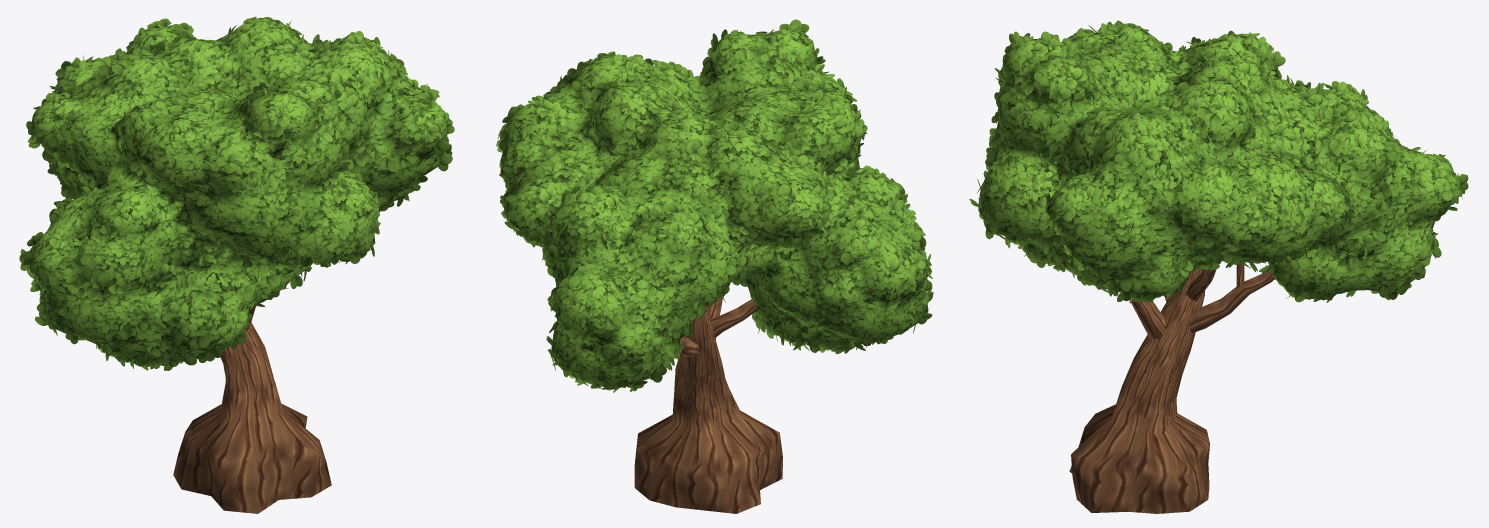
The model's file is oak_v2.glb.
The picture shows the model from 3 angles, left to right: view 1: azimuth 30°, elevation 25°; view 2: azimuth 150°, elevation 25°; view 3: azimuth 270°, elevation 25°; orthographic projection. The views are drawn at different scales.
Visible parts, largest first — view 1: oak_v2_volume_LOD0, oak_v2_leaves_LOD0, oak_v2_trunk_LOD0; view 2: oak_v2_volume_LOD0, oak_v2_leaves_LOD0, oak_v2_trunk_LOD0; view 3: oak_v2_volume_LOD0, oak_v2_leaves_LOD0, oak_v2_trunk_LOD0.
Boxes of the visible parts, bbox=[...] form: oak_v2_volume_LOD0: bbox=[29, 17, 447, 362]; oak_v2_leaves_LOD0: bbox=[19, 16, 454, 370]; oak_v2_trunk_LOD0: bbox=[173, 306, 331, 513]; oak_v2_volume_LOD0: bbox=[500, 29, 928, 387]; oak_v2_leaves_LOD0: bbox=[496, 19, 933, 392]; oak_v2_trunk_LOD0: bbox=[634, 296, 782, 513]; oak_v2_volume_LOD0: bbox=[978, 28, 1459, 298]; oak_v2_leaves_LOD0: bbox=[969, 20, 1468, 302]; oak_v2_trunk_LOD0: bbox=[1069, 263, 1349, 513].
Size of what is drawn, in the model's own units: 10.55 by 10.78 by 11.13.
3 materials, 3 textured.
